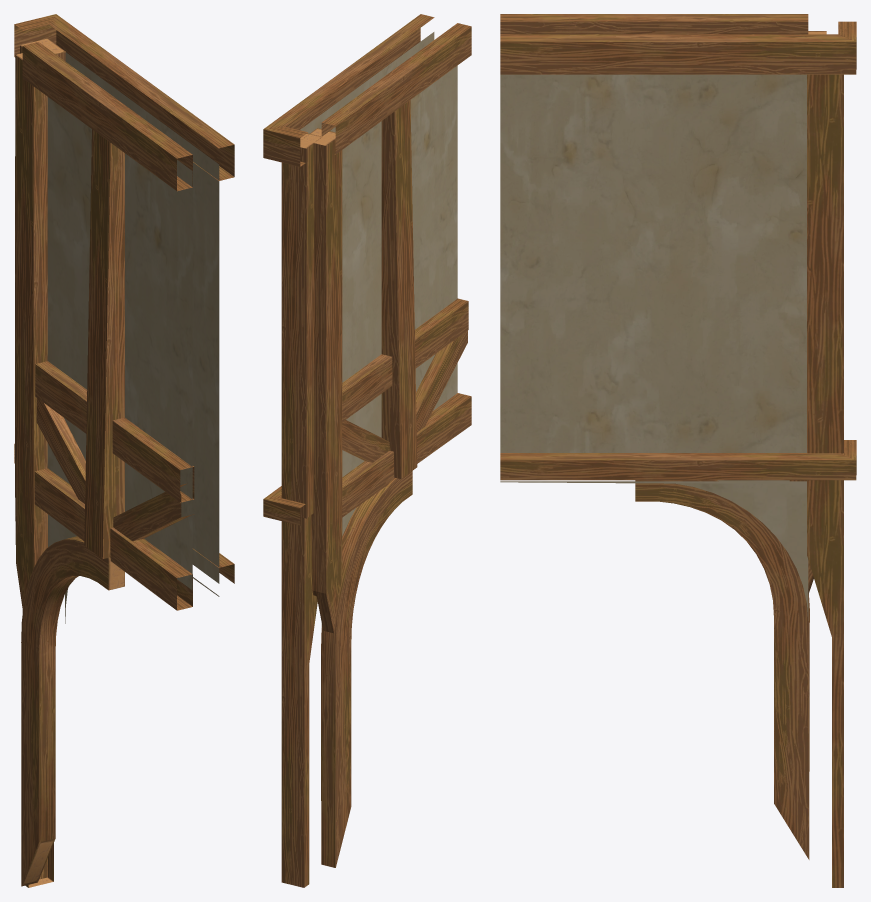
File: Overhang_Side_Plaster_Long_L.gltf
The picture shows the model from 3 angles, left to right: view 1: azimuth 30°, elevation 25°; view 2: azimuth 150°, elevation 25°; view 3: azimuth 270°, elevation 25°; orthographic projection. The views are drawn at different scales.
Visible parts, largest first — view 1: Overhang_Side_Plaster_Long_L; view 2: Overhang_Side_Plaster_Long_L; view 3: Overhang_Side_Plaster_Long_L.
Part boxes in pixels (<box>): Overhang_Side_Plaster_Long_L: <box>14,14,234,887</box>; Overhang_Side_Plaster_Long_L: <box>263,14,471,887</box>; Overhang_Side_Plaster_Long_L: <box>500,14,856,887</box>.
Size of the model in its own units: 0.4793 by 6.12 by 2.31.
Materials: 2 (2 with a texture image).
